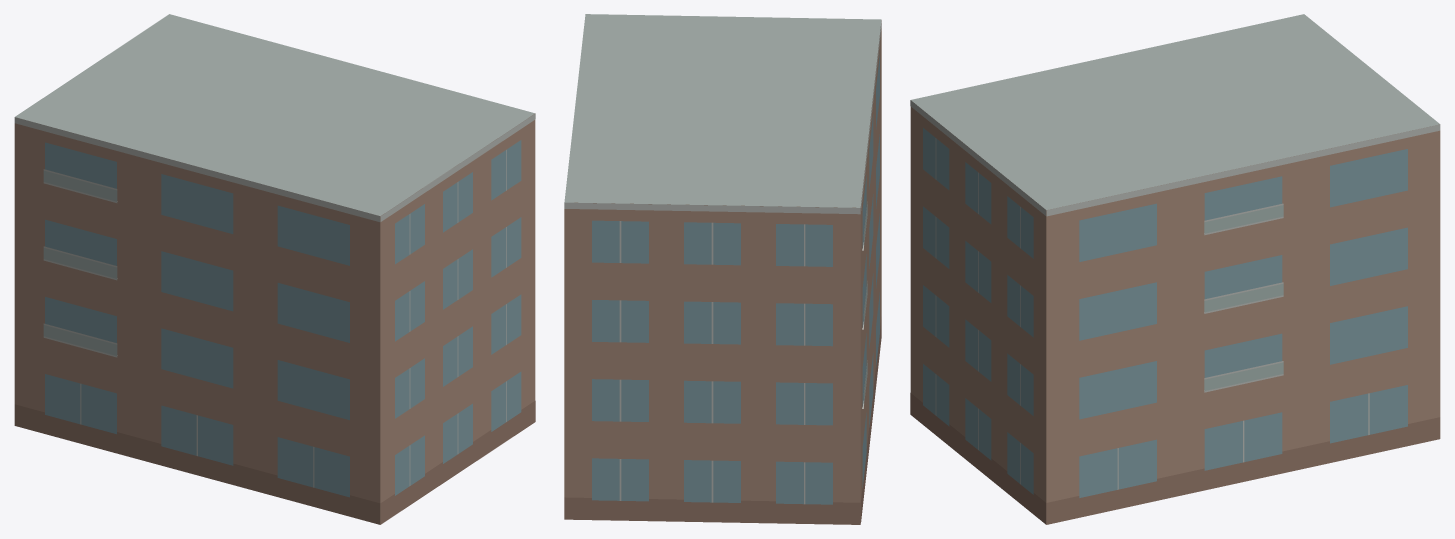
File: survey-upis-32835652.glb
3 renders of one model, left to right at view 1: azimuth 30°, elevation 25°; view 2: azimuth 150°, elevation 25°; view 3: azimuth 270°, elevation 25°, orthographic. The views are drawn at different scales.
Parts seen in each view (by area): view 1: survey-upis-32835652.tmp; view 2: survey-upis-32835652.tmp; view 3: survey-upis-32835652.tmp.
Part boxes in pixels (<box>): survey-upis-32835652.tmp: <box>14,14,535,524</box>; survey-upis-32835652.tmp: <box>564,14,881,524</box>; survey-upis-32835652.tmp: <box>910,14,1440,524</box>.
Bounding box in the file's own units: 16.32 × 12.2 × 18.63.
